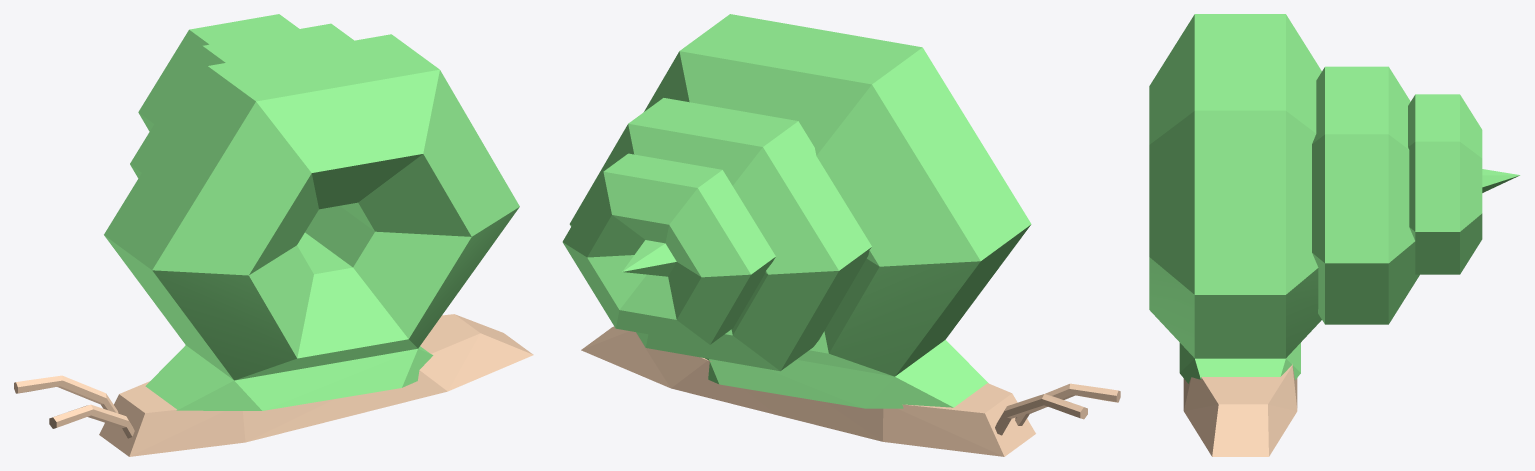
Rendered from incasnail.obj.
3 views of the same model, side by side, from view 1: azimuth 30°, elevation 25°; view 2: azimuth 150°, elevation 25°; view 3: azimuth 270°, elevation 25° (orthographic). The views are drawn at different scales.
Parts seen in each view (by area): view 1: SketchUp; view 2: SketchUp; view 3: SketchUp.
Part boxes in pixels (<box>): SketchUp: <box>14,14,533,456</box>; SketchUp: <box>562,14,1120,456</box>; SketchUp: <box>1149,14,1520,456</box>.
Size of the model in its own units: 8.68 by 5.7 by 6.11.
